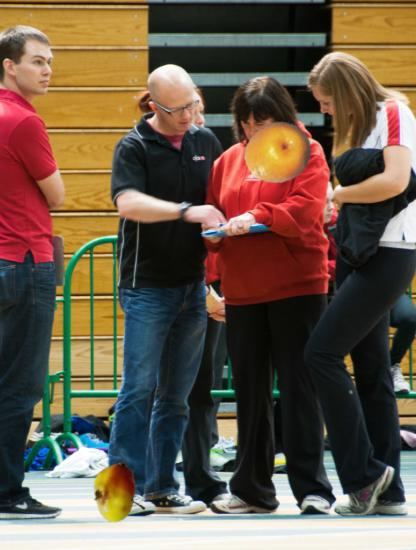Apple: (90, 464, 151, 525)
Kumquats: (244, 119, 313, 188)
